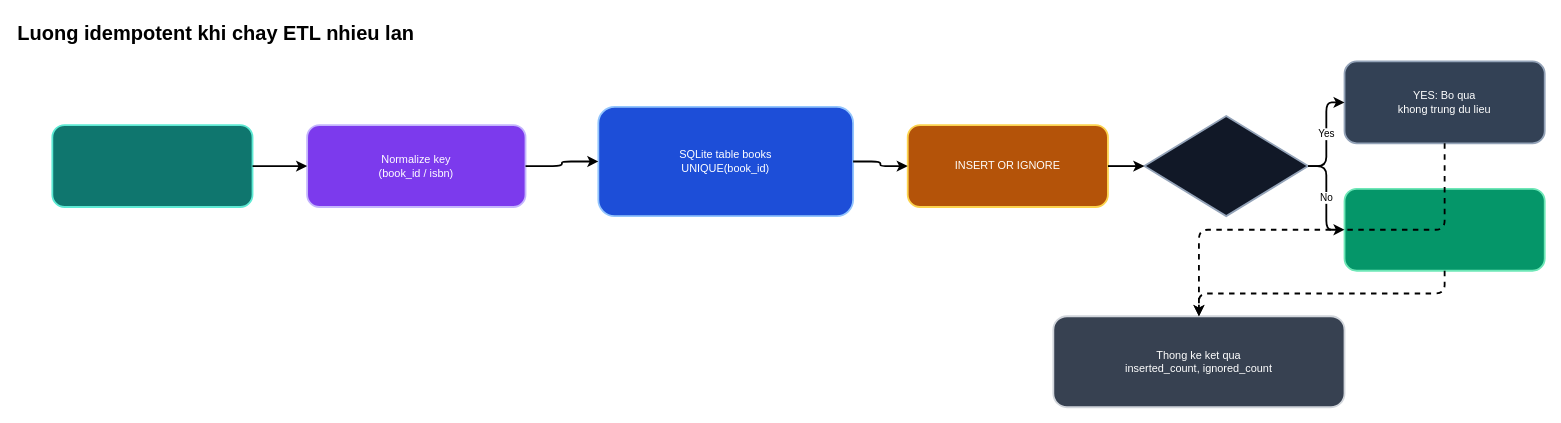
Image size: 1561x423. Some labels were removed from this diagram. The centre of each missing label's shape, as x and y in pixels:
"Dataset (API)" belongs at (x=152, y=165).
"NO: Them moi" belongs at (x=1444, y=229).
"Record da ton tai?" belongs at (x=1226, y=166).
